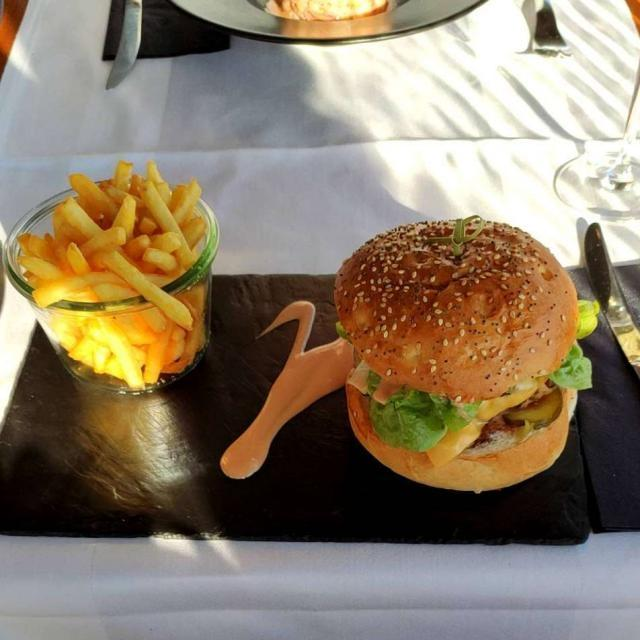cheese: (416, 382, 533, 468)
chips-french-fries: (19, 163, 212, 384)
cucumber-pickled: (508, 388, 565, 427)
hamburger: (339, 222, 582, 485)
sauce: (221, 298, 347, 474)
